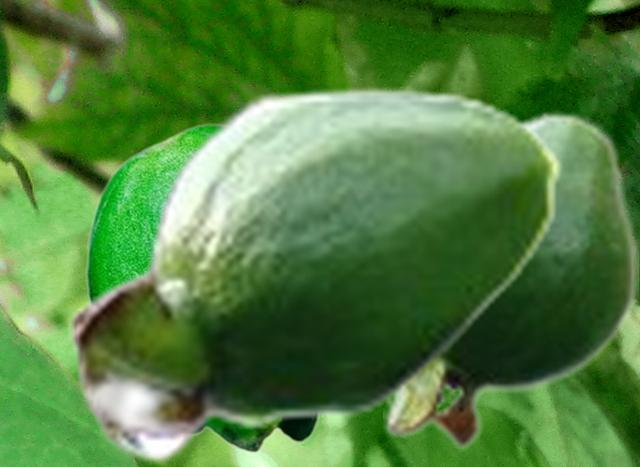guava: (68, 84, 563, 464), (383, 109, 637, 452), (84, 123, 321, 452)
